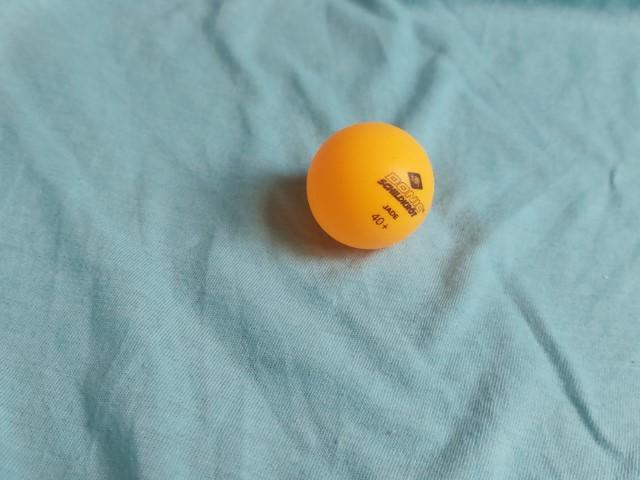oball: (297, 117, 445, 262)
